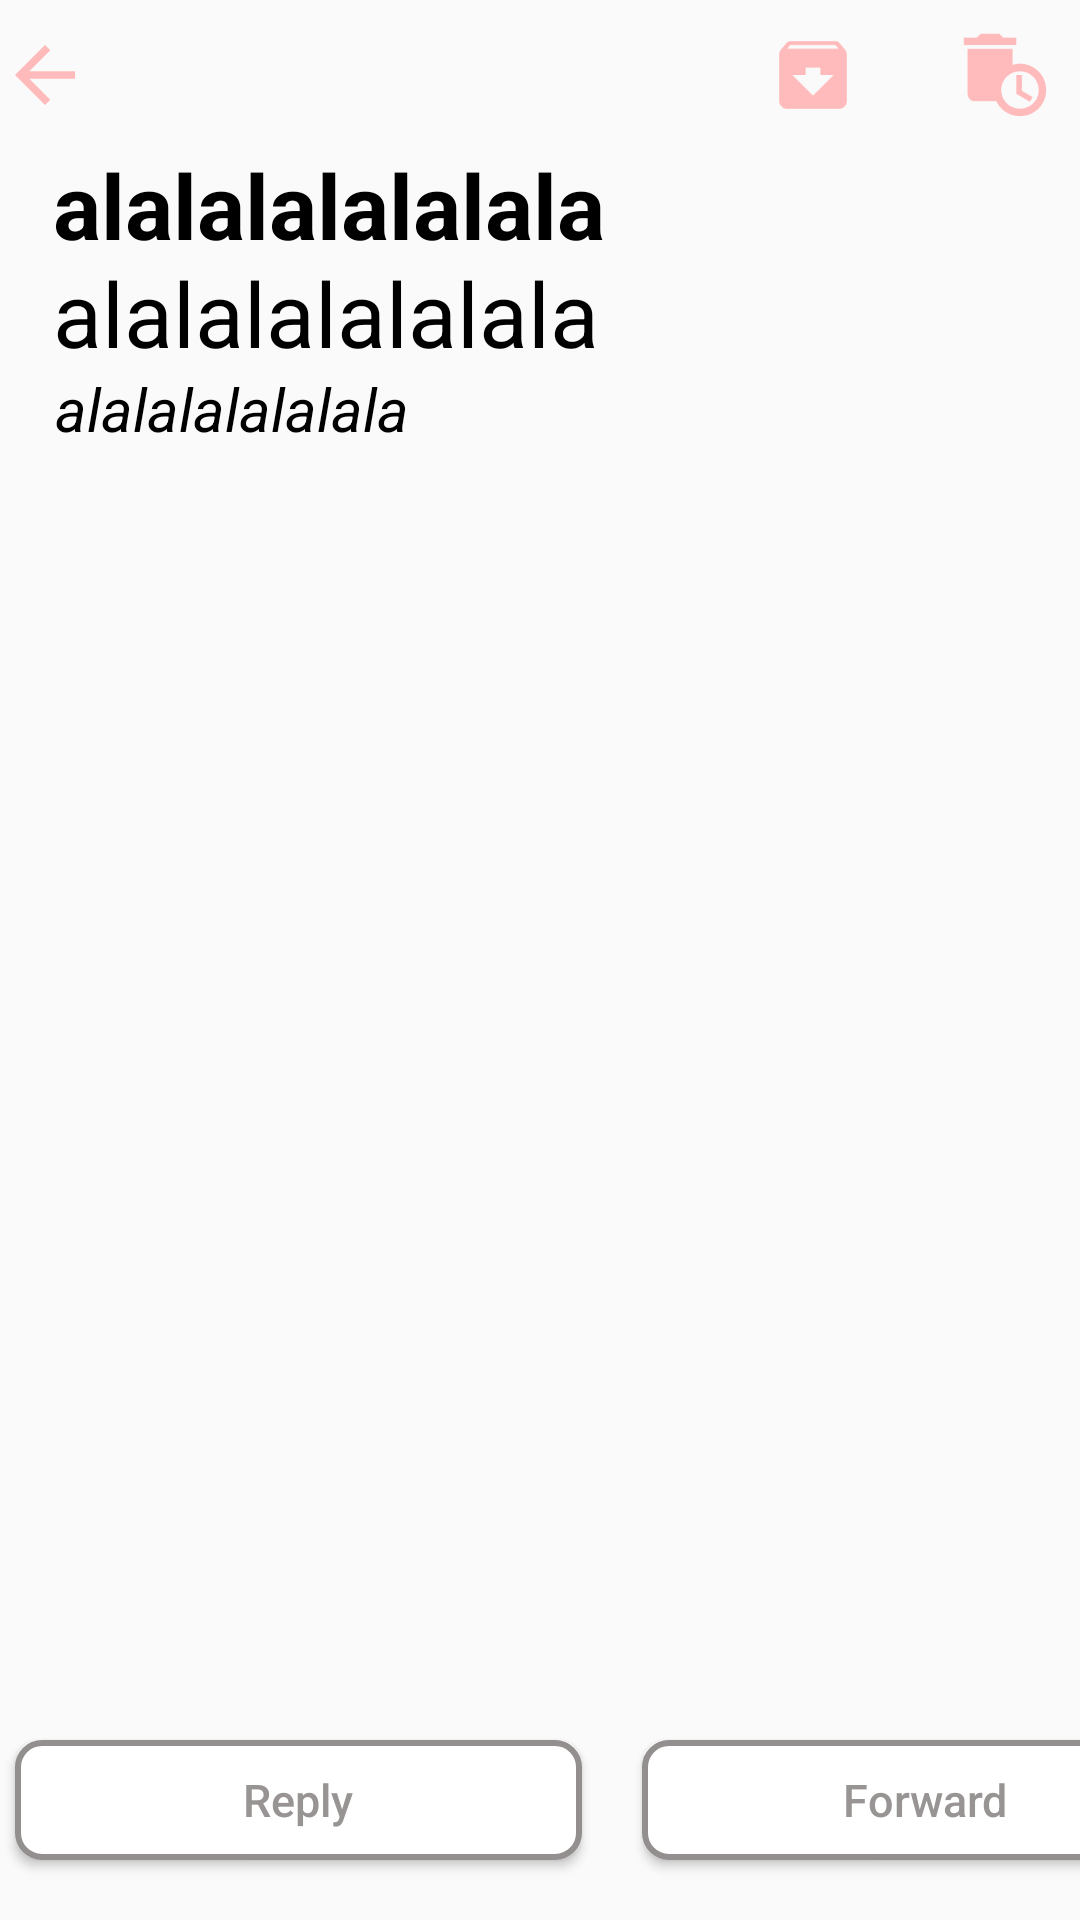

Icons on this 1080*1920 Android screen, each with the point to tap as point (x, y):
archive: point (813, 75)
arrow back: point (45, 75)
auto delete: point (1005, 75)
